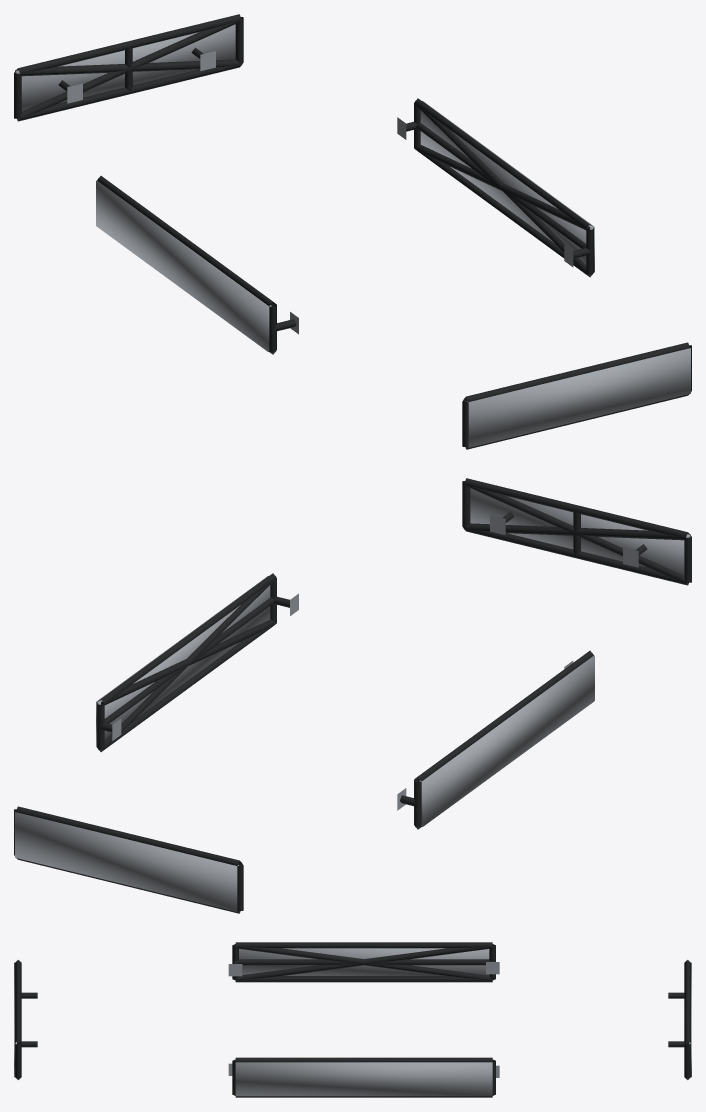
Rendered from hayase_muralha_protecao.glb.
3 views of the same model, one above another, from view 1: azimuth 30°, elevation 25°; view 2: azimuth 150°, elevation 25°; view 3: azimuth 270°, elevation 25° (orthographic). The views are drawn at different scales.
Visible parts, largest first — view 1: Protection_front_Level3_Details, Protection_left_Level3_Details, Protection_rear_Level1_Details, Protection_rear_Level3_Details, Protection_right_Level1_Details, Protection_right_Level2_Details, Protection_rear_Level2_Details, Protection_right_Level3_Details, Protection_front_Level1_Details, Protection_left_Level1_Details; view 2: Protection_rear_Level3_Details, Protection_left_Level3_Details, Protection_front_Level1_Details, Protection_front_Level3_Details, Protection_right_Level1_Details, Protection_right_Level2_Details, Protection_front_Level2_Details, Protection_right_Level3_Details, Protection_rear_Level1_Details, Protection_left_Level1_Details; view 3: Protection_right_Level3_Details, Protection_left_Level2_Details, Protection_left_Level1_Details, Protection_left_Level3_Details, Protection_right_Level1_Details, Protection_rear_Level1_Details, Protection_front_Level1_Details.
Part boxes in pixels (x1=…): Protection_front_Level3_Details: x1=467, y1=348, x2=690, y2=447; Protection_left_Level3_Details: x1=96, y1=180, x2=271, y2=351; Protection_rear_Level1_Details: x1=14, y1=14, x2=243, y2=121; Protection_rear_Level3_Details: x1=15, y1=24, x2=235, y2=111; Protection_right_Level1_Details: x1=397, y1=98, x2=593, y2=277; Protection_right_Level2_Details: x1=414, y1=103, x2=592, y2=276; Protection_rear_Level2_Details: x1=16, y1=20, x2=241, y2=120; Protection_right_Level3_Details: x1=420, y1=101, x2=594, y2=272; Protection_front_Level1_Details: x1=462, y1=342, x2=691, y2=449; Protection_left_Level1_Details: x1=97, y1=176, x2=298, y2=354; Protection_rear_Level3_Details: x1=15, y1=812, x2=238, y2=911; Protection_left_Level3_Details: x1=419, y1=655, x2=594, y2=826; Protection_front_Level1_Details: x1=462, y1=478, x2=691, y2=585; Protection_front_Level3_Details: x1=470, y1=488, x2=690, y2=575; Protection_right_Level1_Details: x1=97, y1=573, x2=298, y2=751; Protection_right_Level2_Details: x1=98, y1=578, x2=276, y2=751; Protection_front_Level2_Details: x1=464, y1=484, x2=689, y2=584; Protection_right_Level3_Details: x1=96, y1=576, x2=270, y2=747; Protection_rear_Level1_Details: x1=14, y1=806, x2=243, y2=913; Protection_left_Level1_Details: x1=397, y1=650, x2=593, y2=829; Protection_right_Level3_Details: x1=235, y1=1062, x2=492, y2=1096; Protection_left_Level2_Details: x1=235, y1=945, x2=492, y2=980; Protection_left_Level1_Details: x1=228, y1=942, x2=499, y2=982; Protection_left_Level3_Details: x1=239, y1=948, x2=489, y2=975; Protection_right_Level1_Details: x1=228, y1=1057, x2=499, y2=1097; Protection_rear_Level1_Details: x1=668, y1=960, x2=690, y2=1079; Protection_front_Level1_Details: x1=15, y1=960, x2=37, y2=1079.
Bounding box in the file's own units: 2.27 × 0.354 × 5.46.
Materials: 1 (1 with a texture image).
